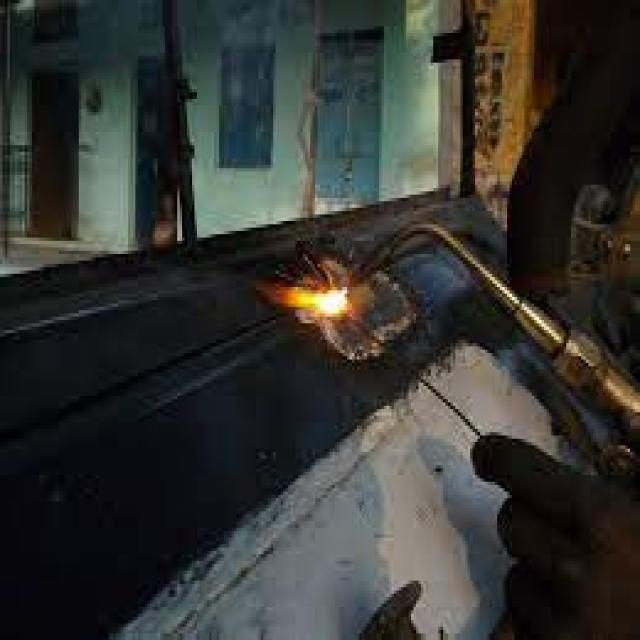fire: (259, 285, 347, 321)
